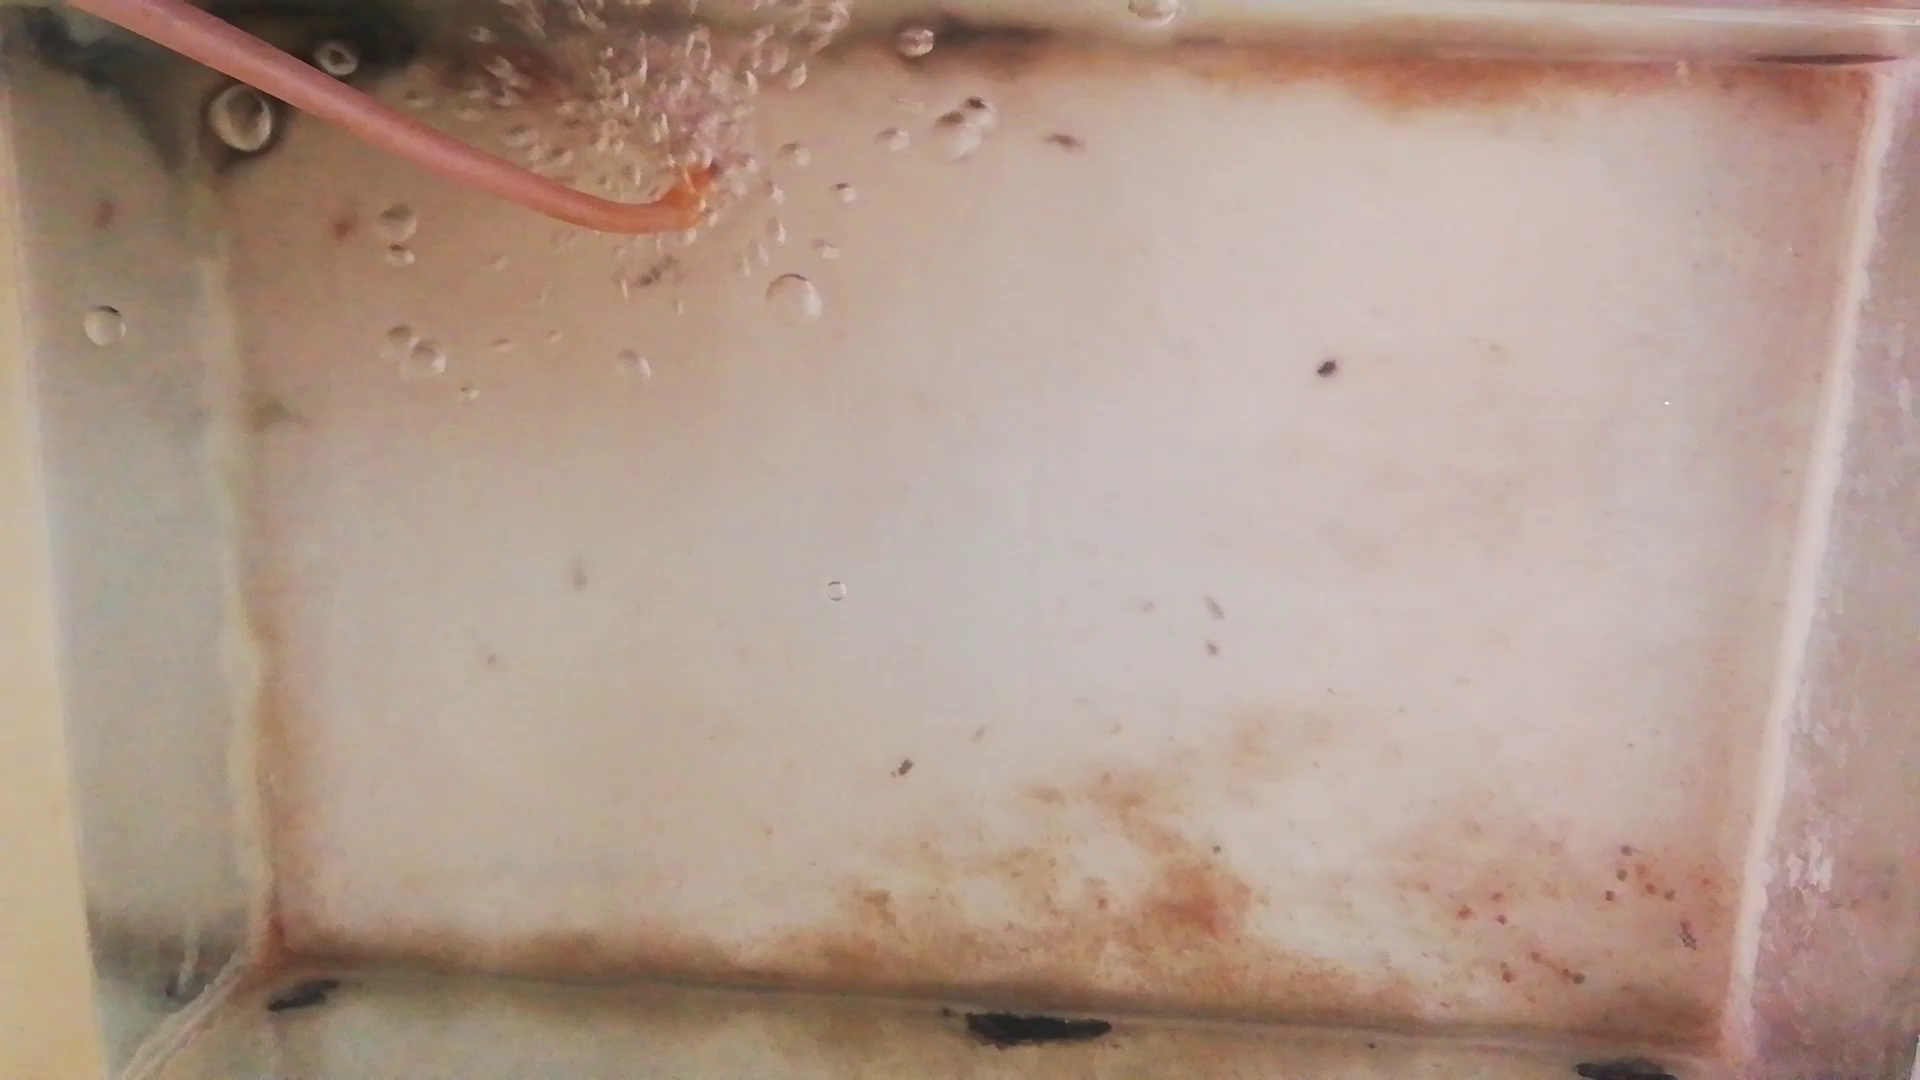fish: (215, 40, 414, 164), (425, 33, 589, 111)
